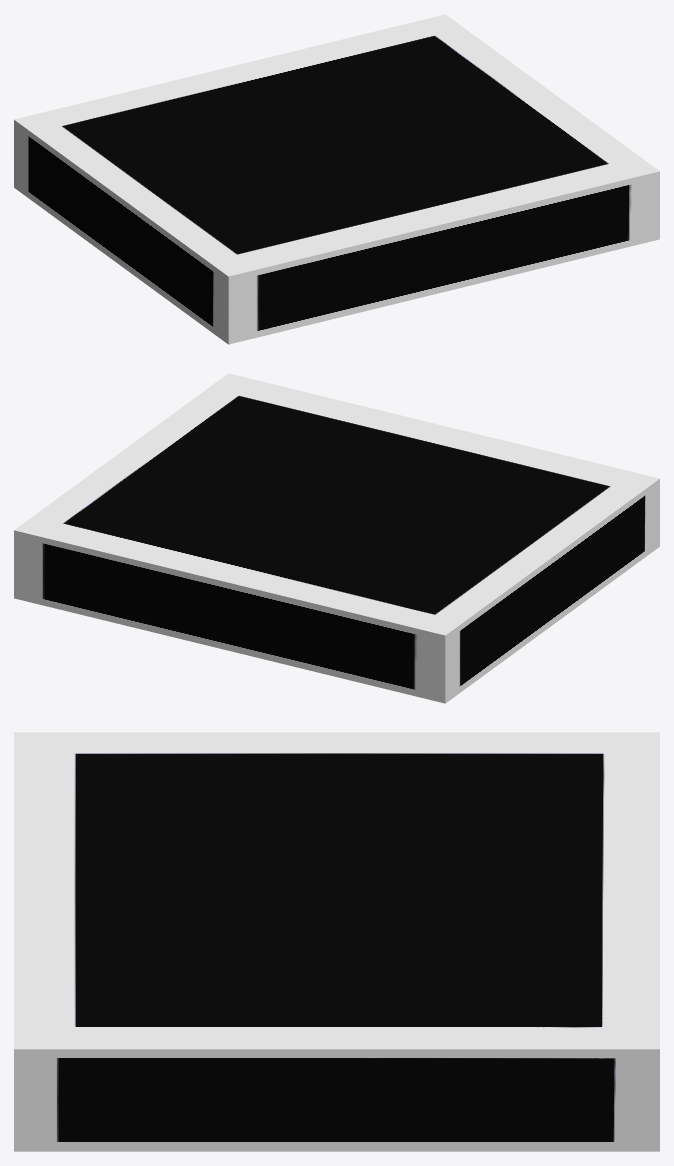
The model's file is Jumpyuka2.FBX.
The picture shows the model from 3 angles, top to bottom: view 1: azimuth 30°, elevation 25°; view 2: azimuth 150°, elevation 25°; view 3: azimuth 270°, elevation 25°; orthographic projection. The views are drawn at different scales.
Visible parts, largest first — view 1: Box001; view 2: Box001; view 3: Box001.
Boxes of the visible parts, x1,y1,x2,y2 form: Box001: [14, 14, 659, 344]; Box001: [14, 373, 659, 703]; Box001: [14, 732, 659, 1151].
Bounding box in the file's own units: 173 × 149 × 26.03.
Materials: 1 (1 with a texture image).
